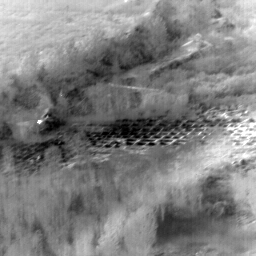aircraft: (38, 120, 40, 122)
